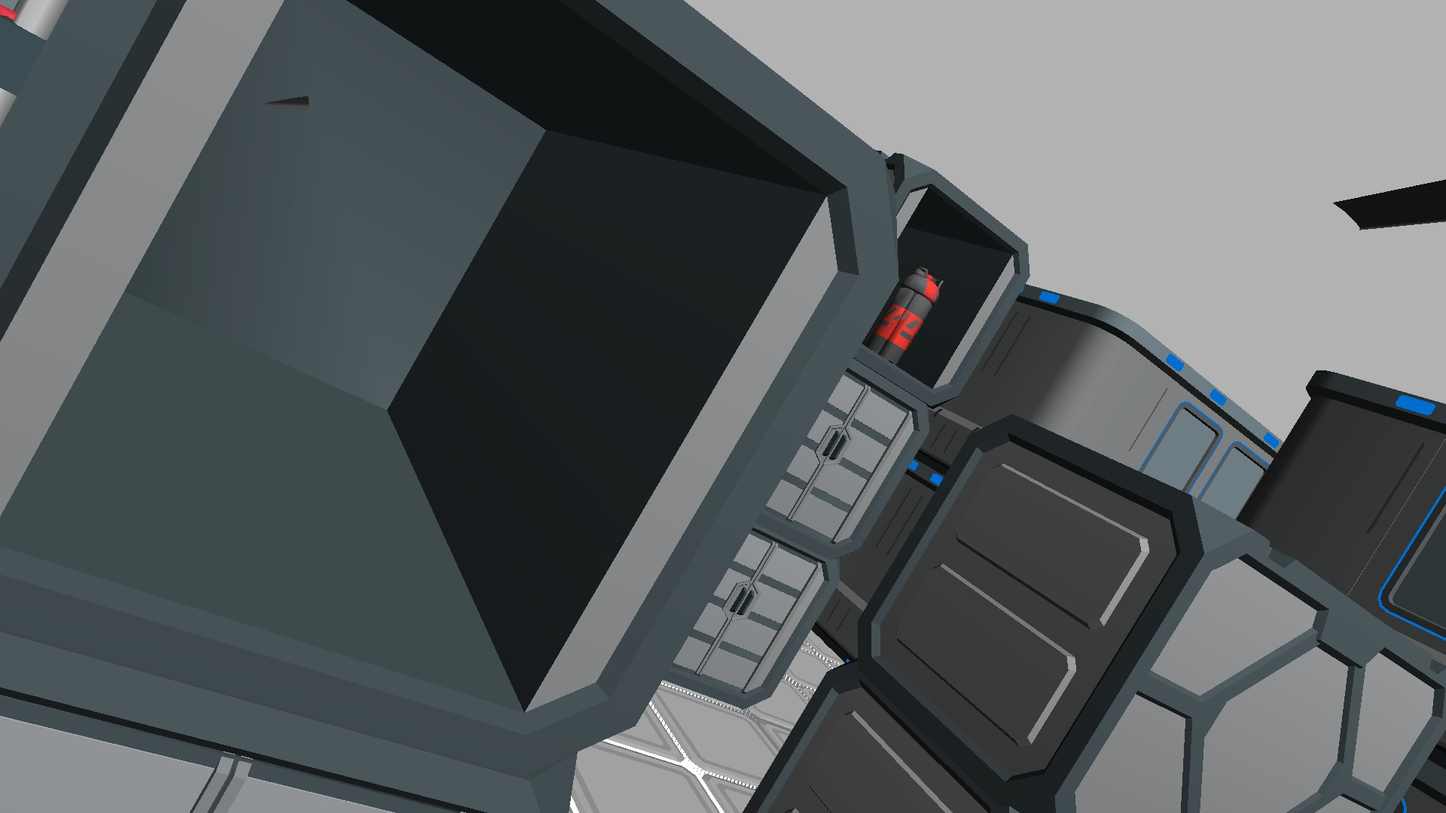red barrel: (862, 266, 943, 365)
